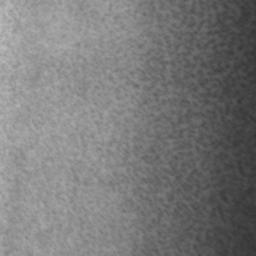Pitted surface: (56, 0, 256, 256), (24, 43, 126, 97), (5, 178, 41, 239), (71, 2, 120, 33), (8, 0, 40, 32), (10, 143, 37, 173), (27, 103, 49, 129)
